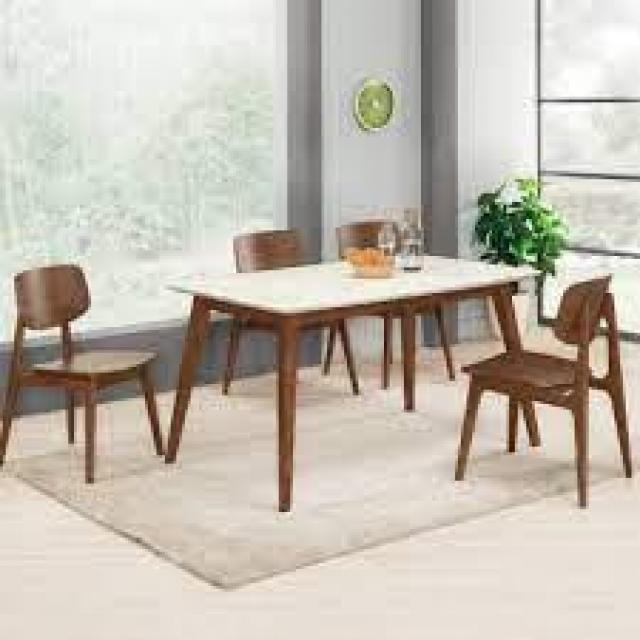table: (164, 205, 573, 512)
